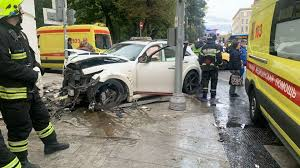car: (63, 34, 210, 112)
